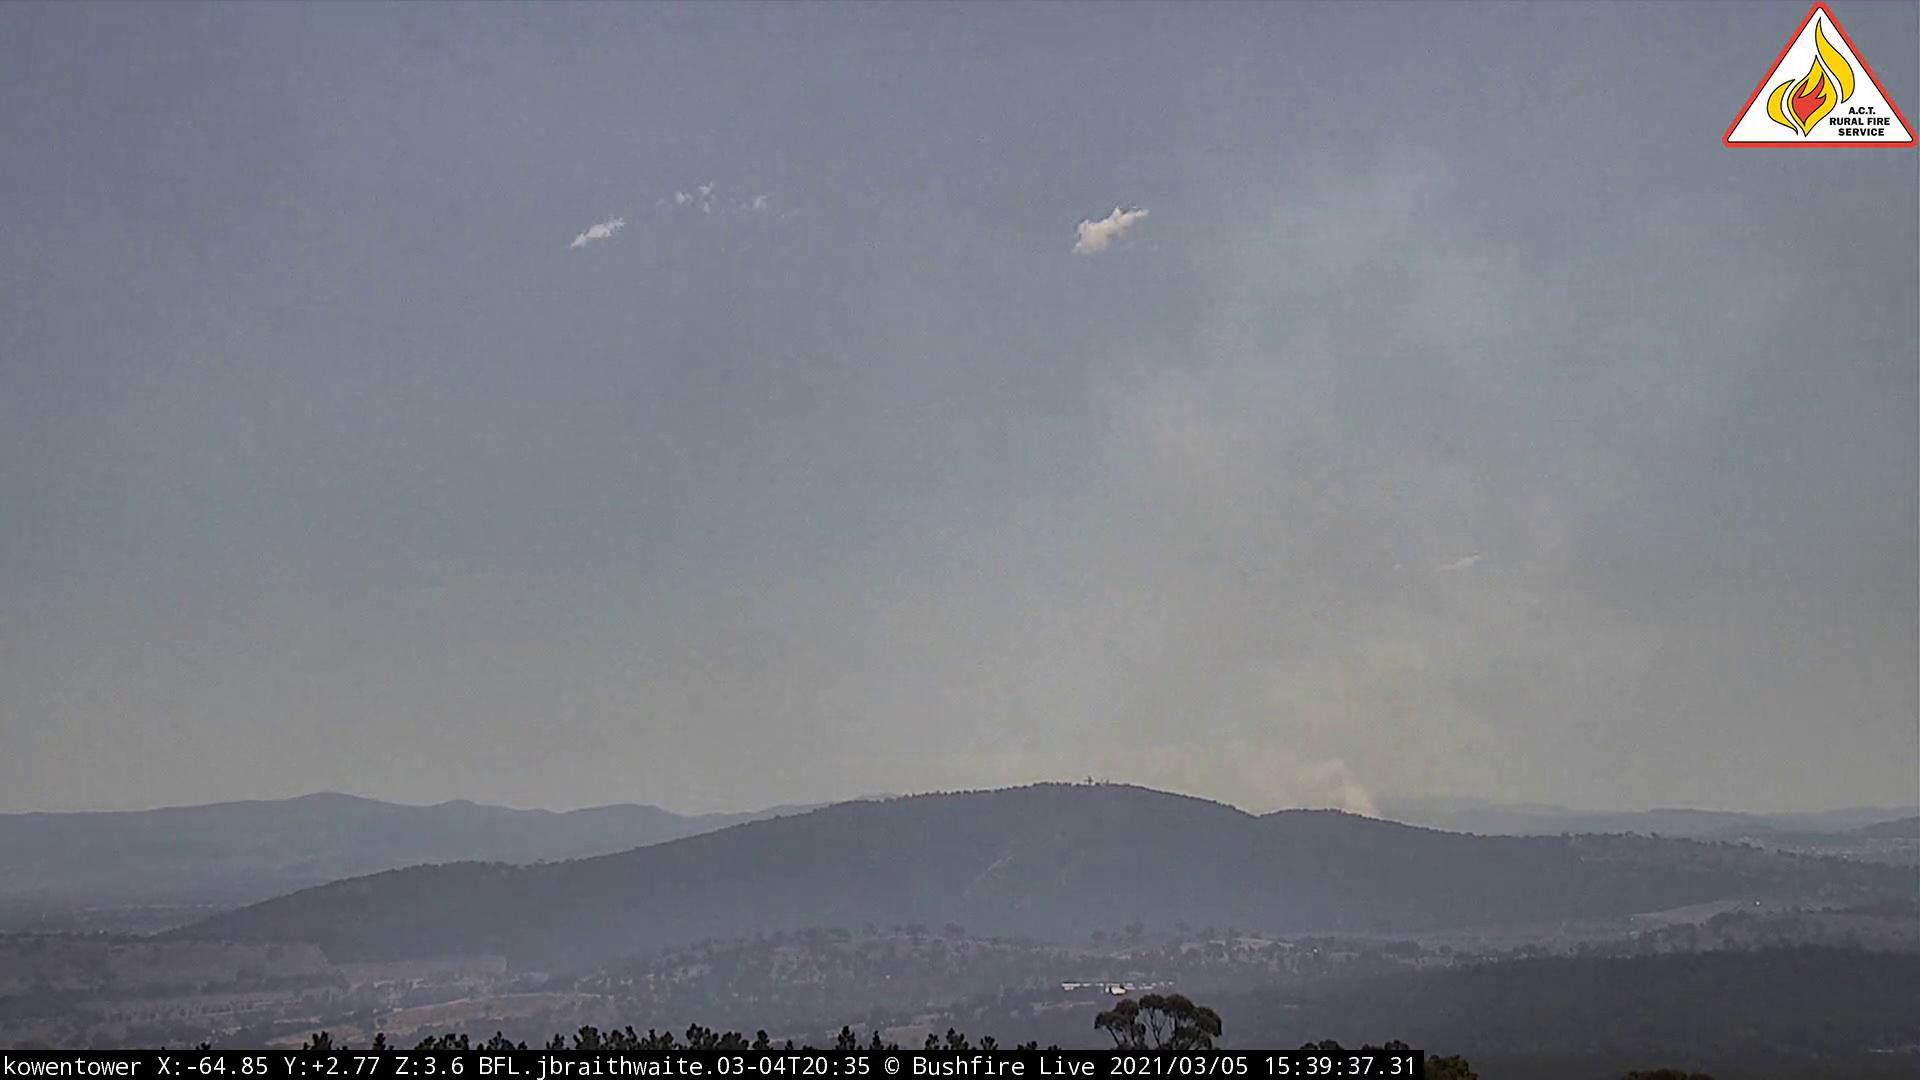Smoke: (923, 156, 1828, 851)
